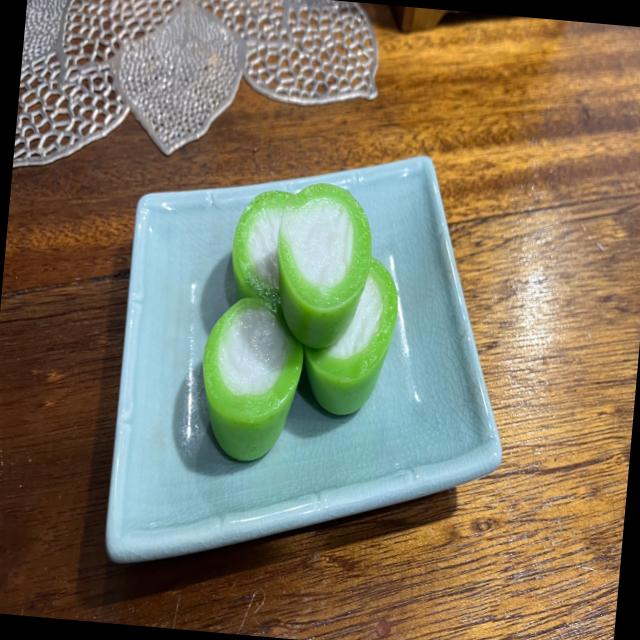nona-manis: (202, 296, 303, 461), (276, 183, 371, 349), (303, 258, 397, 414), (232, 190, 292, 307)
